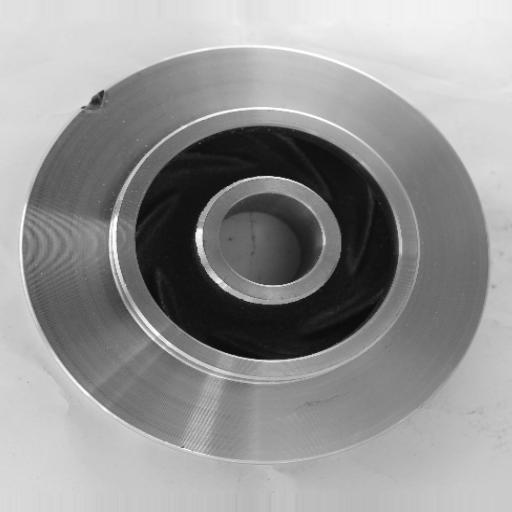crack: (75, 82, 124, 127)
unpolished_casting: (18, 45, 492, 466)
